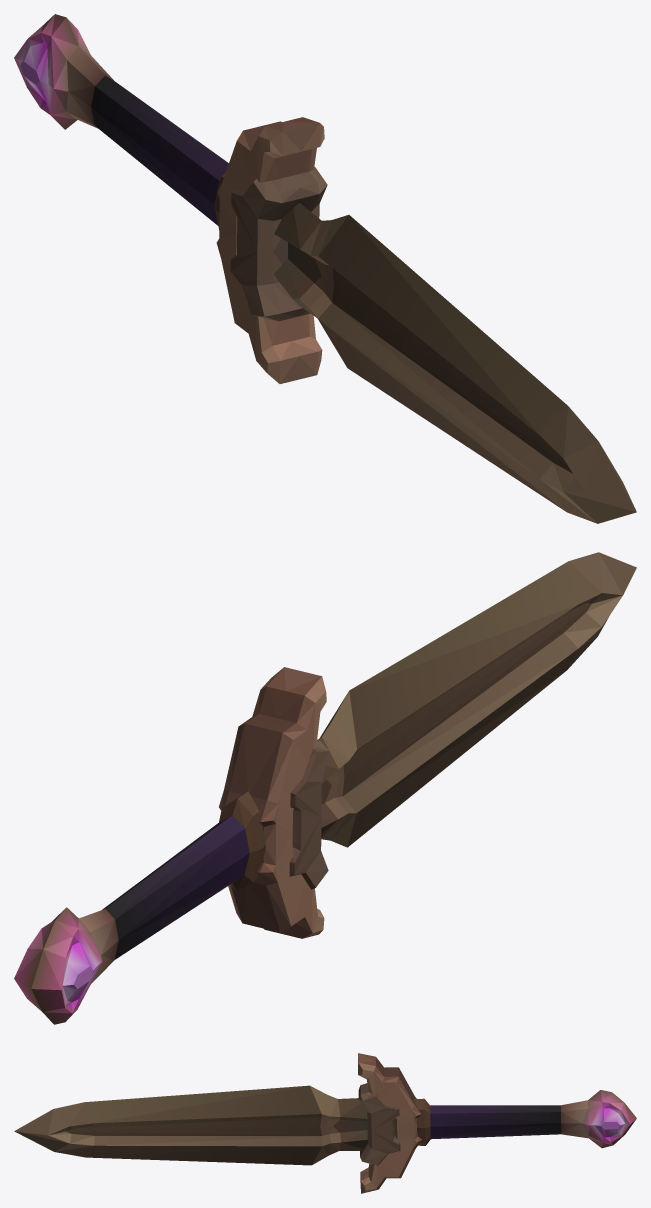
The model's file is weapon_sword_bronze_2.fbx.
3 renders of one model, top to bottom at view 1: azimuth 30°, elevation 25°; view 2: azimuth 150°, elevation 25°; view 3: azimuth 270°, elevation 25°, orthographic. The views are drawn at different scales.
Parts seen in each view (by area): view 1: weapon_sword_bronze_2; view 2: weapon_sword_bronze_2; view 3: weapon_sword_bronze_2.
Boxes of the visible parts, box(x1,y1,x2,y2) form: weapon_sword_bronze_2: box(14, 14, 636, 523); weapon_sword_bronze_2: box(14, 552, 636, 1024); weapon_sword_bronze_2: box(14, 1053, 636, 1193).
Size of the model in its own units: 0.1205 by 0.4718 by 2.03.
